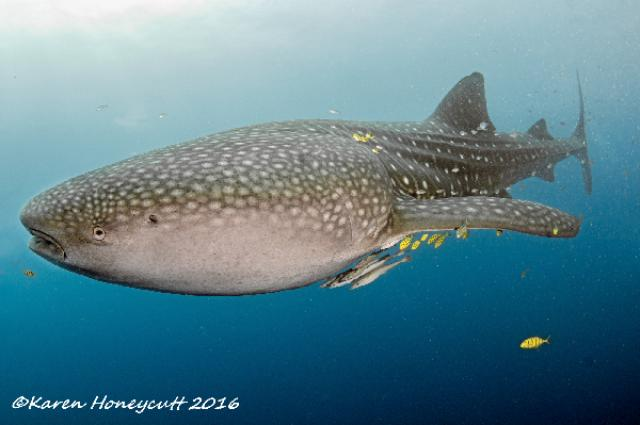Mulut: (0, 190, 101, 282)
Sirip Dada: (362, 175, 600, 257)
Sirip Ekor: (562, 48, 612, 206)
Sirip Punggung: (412, 63, 562, 147)
